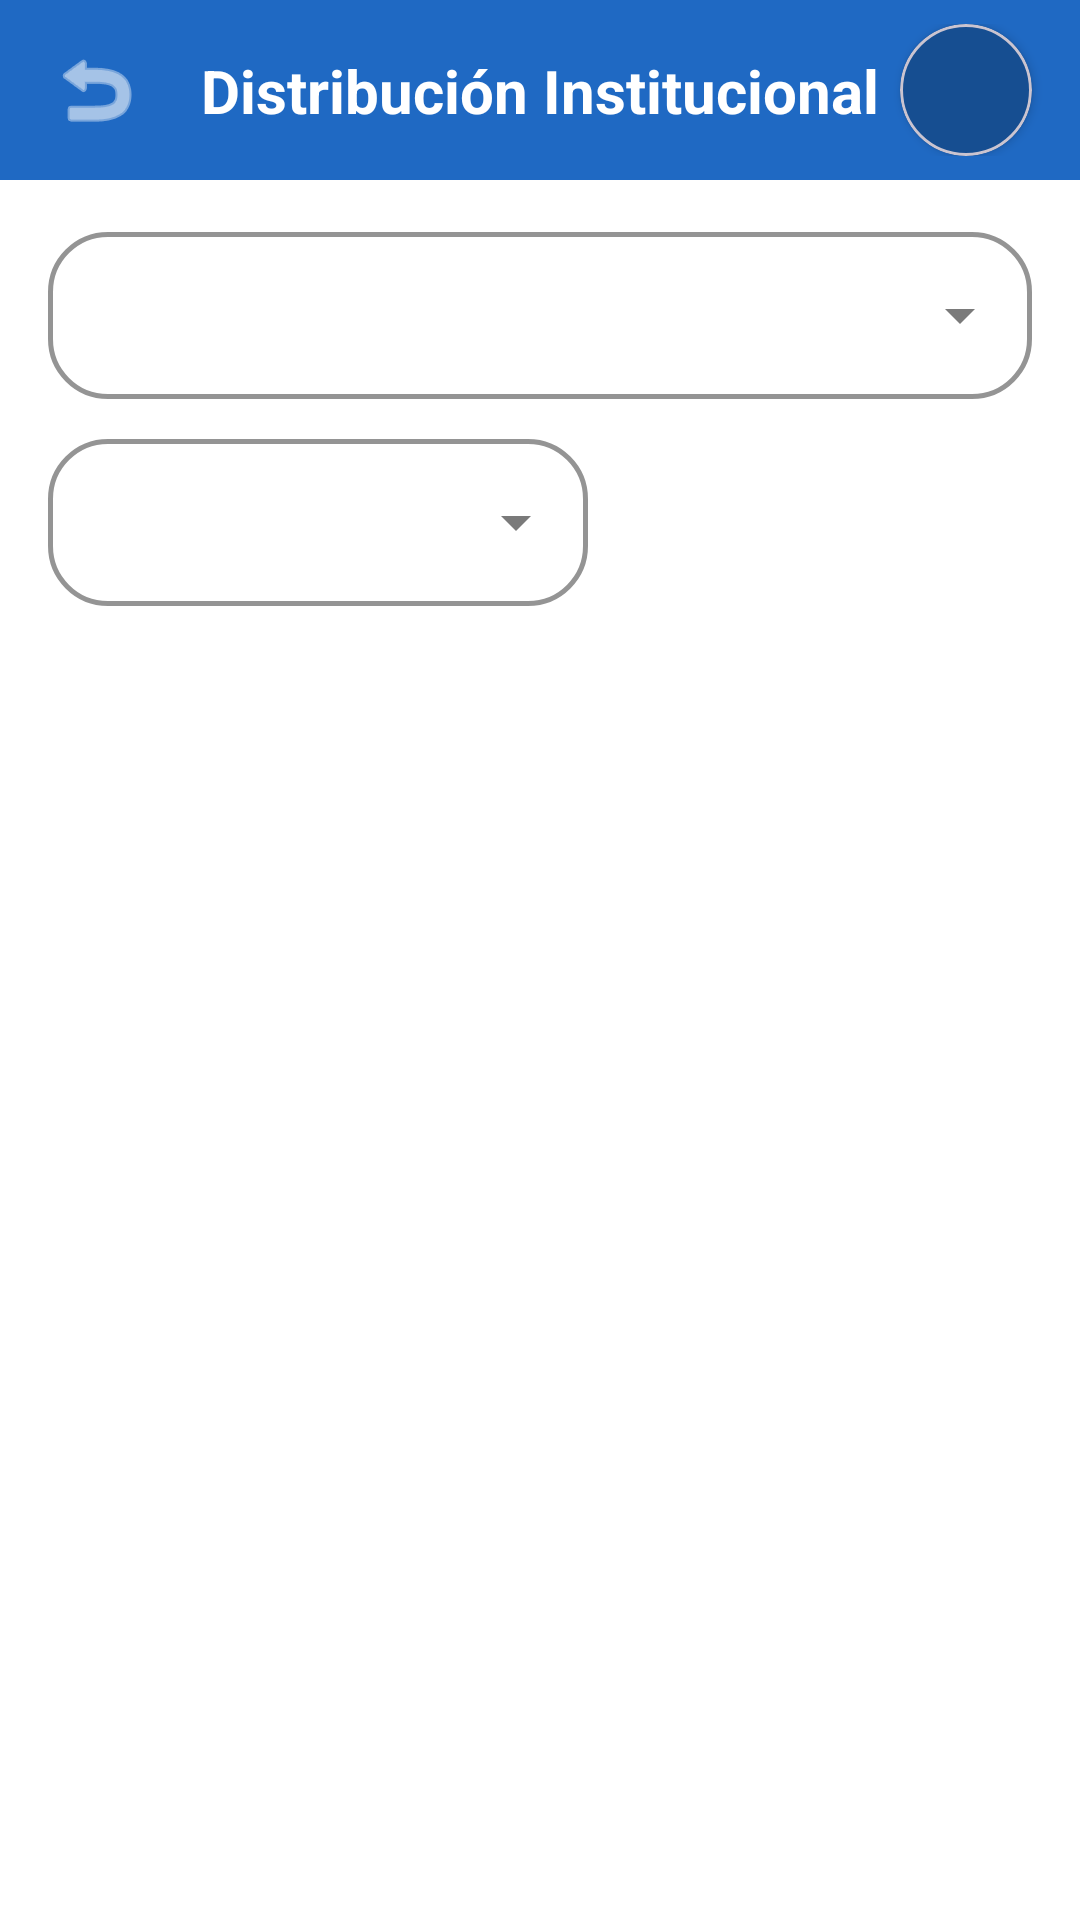

Screen size 1080x1920. Icon name, then its box in pixels as (x1, y1, x2, y2):
Atrás: (63, 59, 132, 122)
